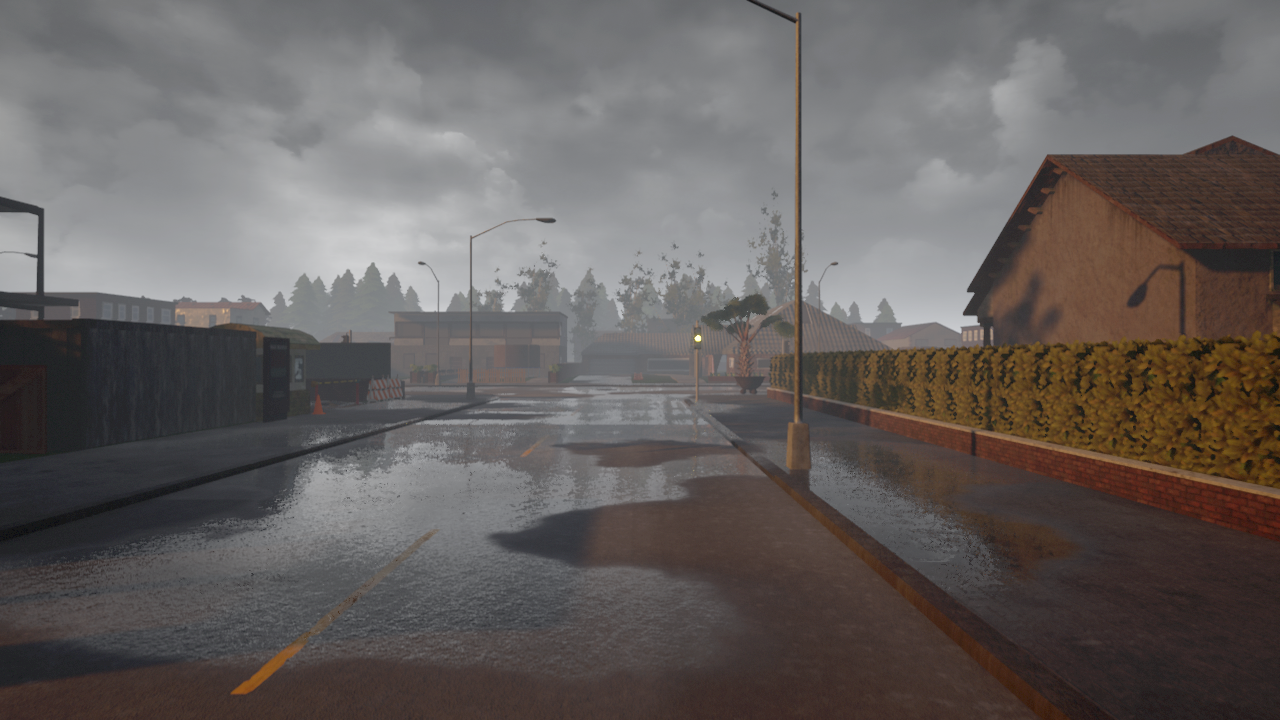yellow: (693, 325, 701, 347)
